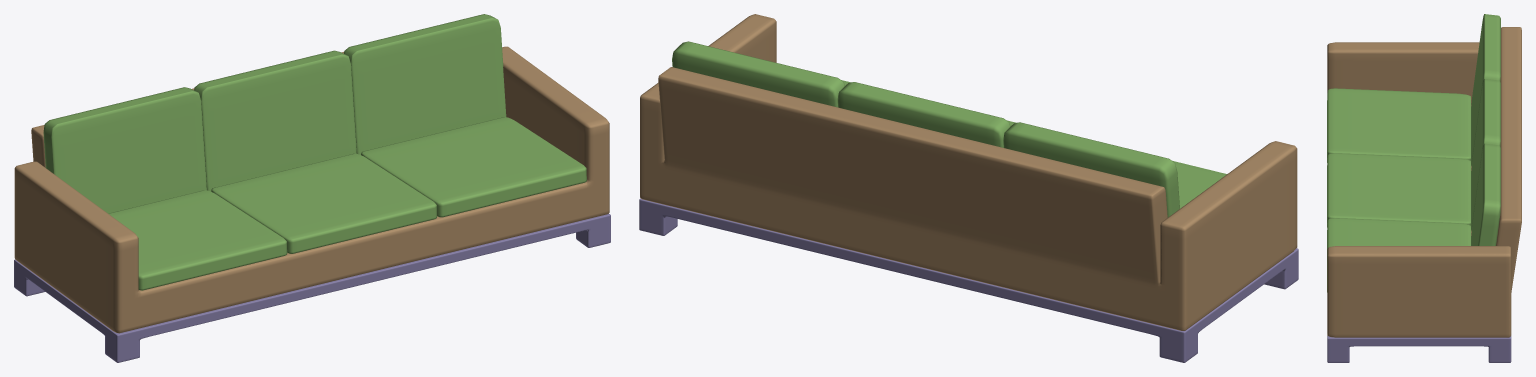
File: Couch_Large.fbx
3 views of the same model, side by side, from view 1: azimuth 30°, elevation 25°; view 2: azimuth 150°, elevation 25°; view 3: azimuth 270°, elevation 25° (orthographic). The views are drawn at different scales.
Visible parts, largest first — view 1: Couch_Large; view 2: Couch_Large; view 3: Couch_Large.
Boxes of the visible parts, x1=… form: Couch_Large: x1=14, y1=14, x2=610, y2=362; Couch_Large: x1=639, y1=14, x2=1298, y2=362; Couch_Large: x1=1327, y1=14, x2=1521, y2=362.
Size of the model in its own units: 8.8 by 2.85 by 3.39.
